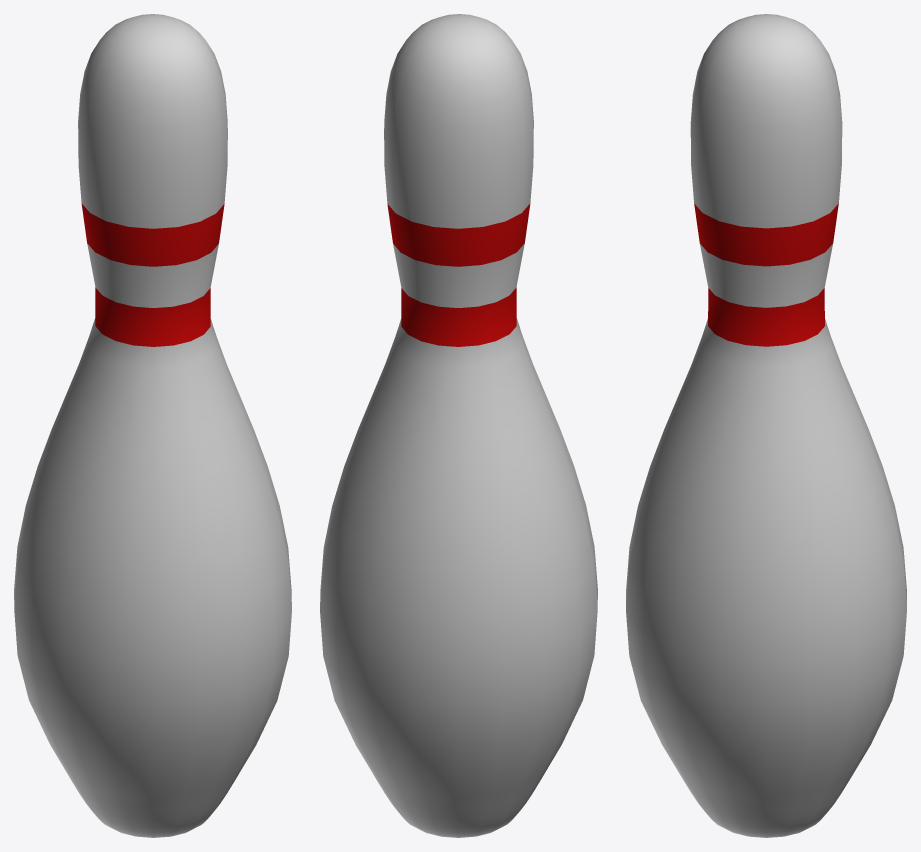
File: BowlingPin.fbx
3 views of the same model, side by side, from view 1: azimuth 30°, elevation 25°; view 2: azimuth 150°, elevation 25°; view 3: azimuth 270°, elevation 25° (orthographic).
Parts seen in each view (by area): view 1: BowlingPin; view 2: BowlingPin; view 3: BowlingPin.
Boxes of the visible parts, x1,y1,x2,y2 form: BowlingPin: [14, 14, 291, 837]; BowlingPin: [320, 14, 597, 837]; BowlingPin: [626, 14, 906, 837].
Size of the model in its own units: 1210 by 3800 by 1210.
